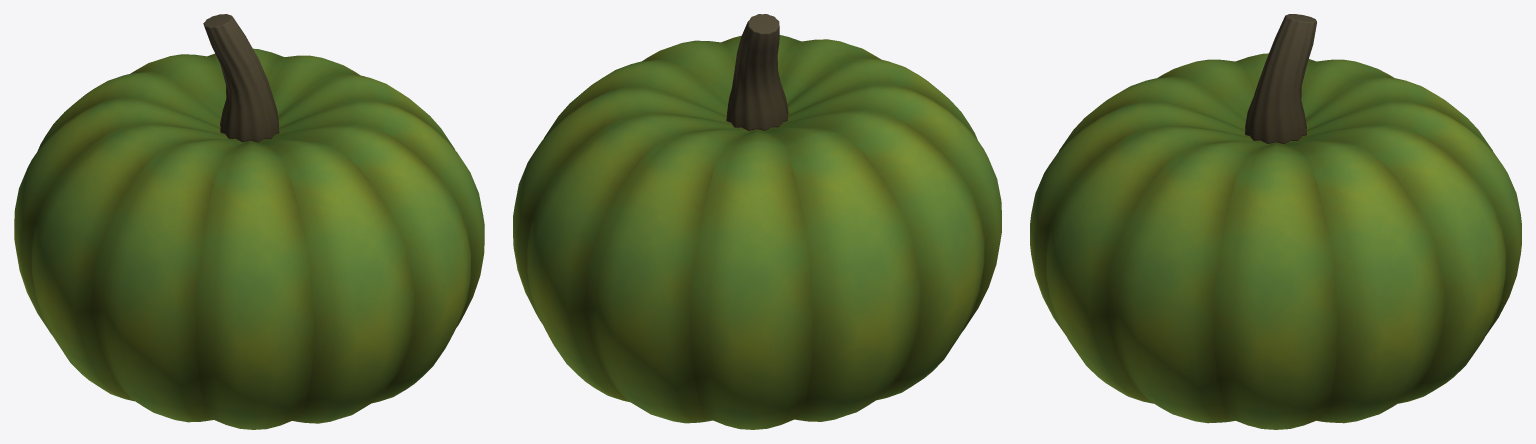
The model's file is pumpkin_small_06.obj.
The picture shows the model from 3 angles, left to right: view 1: azimuth 30°, elevation 25°; view 2: azimuth 150°, elevation 25°; view 3: azimuth 270°, elevation 25°; orthographic projection. The views are drawn at different scales.
Visible parts, largest first — view 1: pumpkin_small_006; view 2: pumpkin_small_006; view 3: pumpkin_small_006.
Boxes of the visible parts, left/top/right/bottom form: pumpkin_small_006: left=14, top=14, right=484, bottom=429; pumpkin_small_006: left=513, top=14, right=1001, bottom=429; pumpkin_small_006: left=1030, top=14, right=1521, bottom=429.
Size of the model in its own units: 1.88 by 1.6 by 1.99.
1 material, 1 textured.
